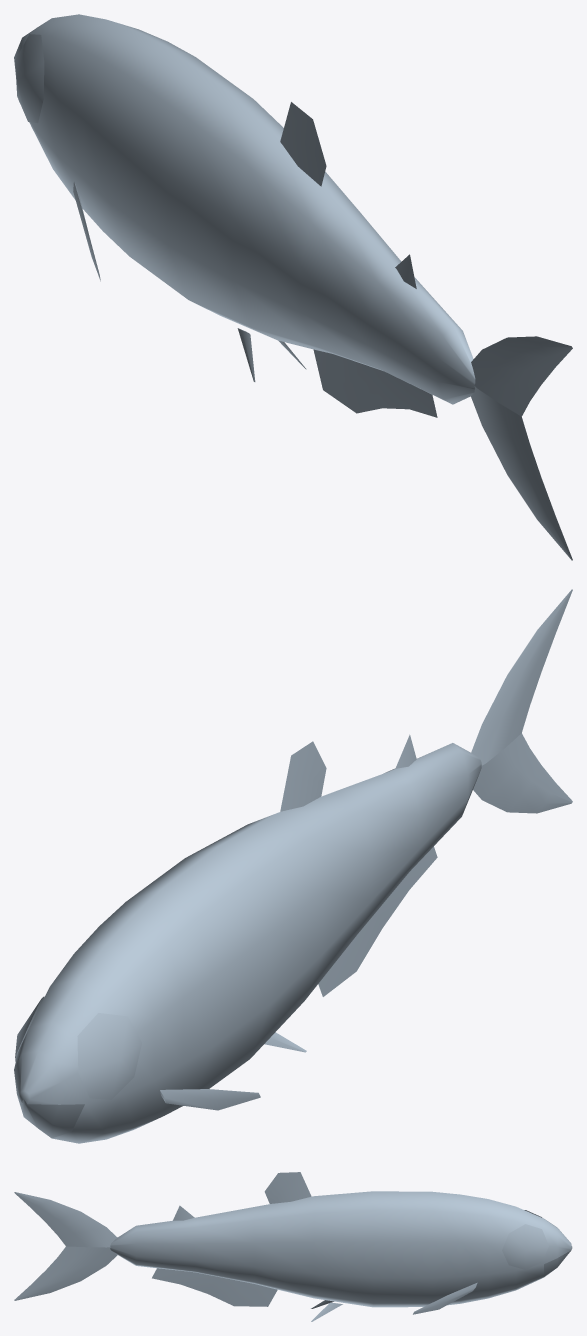
The model's file is neon_tetra_lo.glb.
The picture shows the model from 3 angles, top to bottom: view 1: azimuth 30°, elevation 25°; view 2: azimuth 150°, elevation 25°; view 3: azimuth 270°, elevation 25°; orthographic projection. The views are drawn at different scales.
Parts seen in each view (by area): view 1: neon_tetra_lo; view 2: neon_tetra_lo; view 3: neon_tetra_lo.
Boxes of the visible parts, left/top/right/bottom form: neon_tetra_lo: left=14, top=14, right=572, bottom=560; neon_tetra_lo: left=14, top=589, right=572, bottom=1143; neon_tetra_lo: left=14, top=1172, right=572, bottom=1321.
Size of the model in its own units: 0.00587 by 0.00989 by 0.0349.
